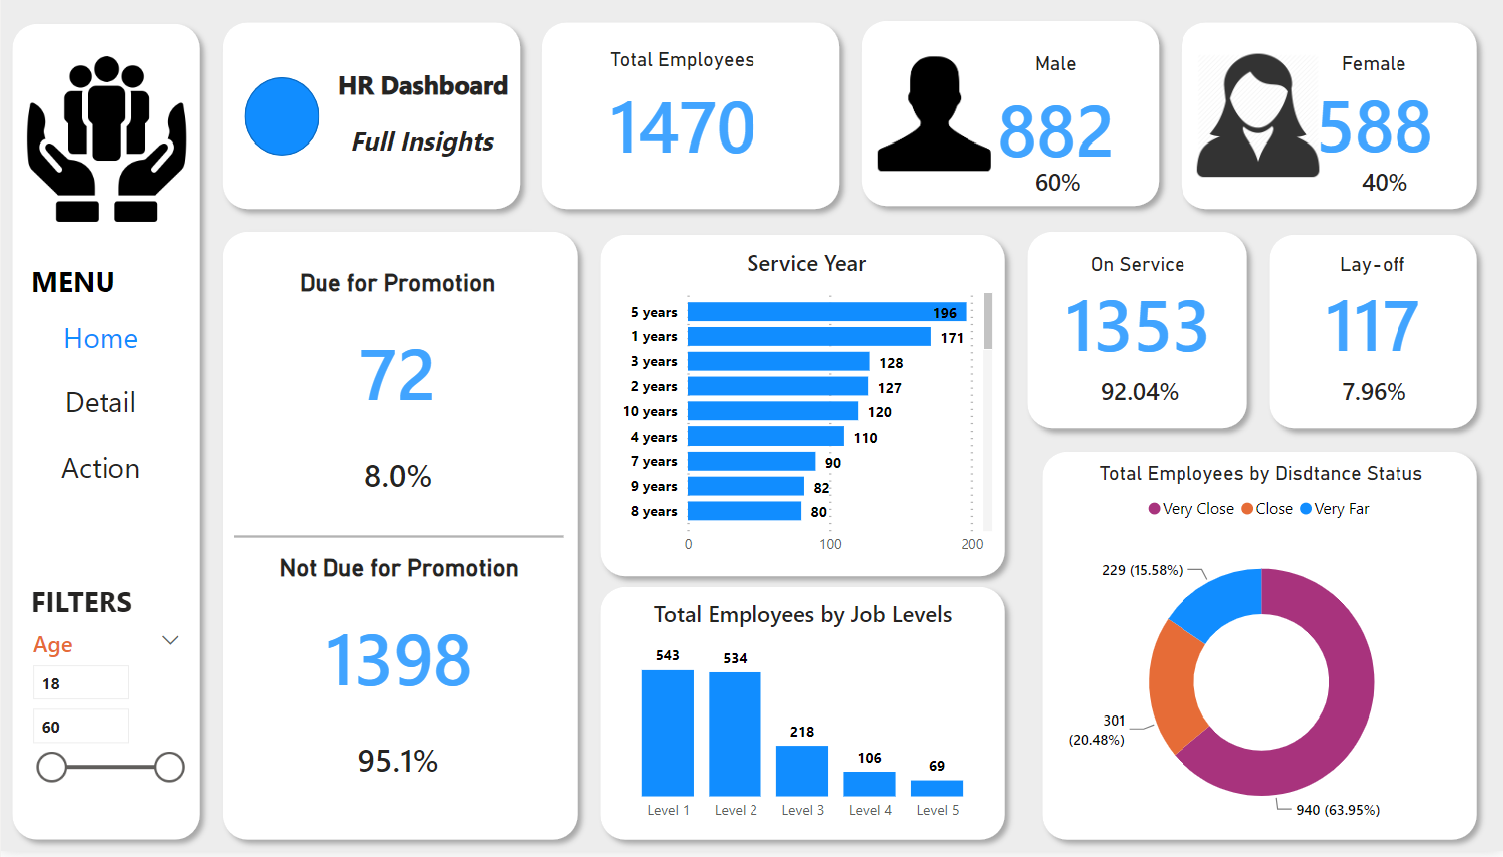

What the dashboard file says about the page in this screenshot:
{"tool":"powerbi","page":{"name":"Home","canvas":[1280,720],"ordinal":0},"visuals":[{"type":"shape","box":[0,11.9,179,708.6],"z":0},{"type":"shape","box":[451.7,10.2,272.3,176.9],"z":1000},{"type":"shape","box":[179.4,10.2,272.3,176.9],"z":2000},{"type":"shape","box":[724,8.9,272.3,175.6],"z":3000},{"type":"shape","box":[996.3,10.2,271,176.9],"z":4000},{"type":"shape","box":[179.4,187,321.9,533.1],"z":5000},{"type":"shape","box":[501.3,189.6,363.9,307.9],"z":6000},{"type":"shape","box":[501.3,487.3,363.9,232.8],"z":7000},{"type":"shape","box":[865.2,187,206.1,185.8],"z":8000},{"type":"shape","box":[877.9,372.8,389.3,347.4],"z":9000},{"type":"shape","box":[1071.3,189.6,195.9,183.2],"z":10000},{"type":"textbox","box":[282.5,52.2,169.2,57.3],"z":11000},{"type":"textbox","box":[292.6,99.2,150.1,42],"z":12000},{"type":"card","title":"Total Employees","fields":{"Values":["New Measures.Total Emp"]},"box":[501.3,40.7,159,105.6],"z":13000},{"type":"card","title":"Male","fields":{"Values":["New Measures.Male"]},"box":[819.4,44.5,159,105.6],"z":14000},{"type":"card","title":"Female","fields":{"Values":["New Measures.Female"]},"box":[1101.9,44.5,136.1,96.7],"z":15000},{"type":"image","box":[741.8,14,106.9,165.4],"z":16000},{"type":"image","box":[1014.1,7.6,114.5,181.9],"z":17000},{"type":"card","fields":{"Values":["New Measures.% male"]},"box":[849.9,127.2,100.5,57.3],"z":18000},{"type":"card","fields":{"Values":["New Measures.% female"]},"box":[1128.6,118.3,100.5,75.1],"z":19000},{"type":"card","title":"Due for Promotion","fields":{"Values":["New Measures.Due for Promotion"]},"box":[206.1,227.8,263.4,147.6],"z":20000},{"type":"card","fields":{"Values":["New Measures.% due for promotion"]},"box":[282.5,361.4,112,82.7],"z":21000},{"type":"card","title":"Not Due for Promotion","fields":{"Values":["New Measures.Not Due"]},"box":[207.4,468.2,263.4,147.6],"z":22000},{"type":"card","fields":{"Values":["New Measures.% not due"]},"box":[282.5,601.8,112,82.7],"z":23000},{"type":"shape","box":[198.5,333.4,281.2,241.7],"z":24000},{"type":"barChart","title":"Service Year","fields":{"Category":["HR Analytics Data.Service Year"],"Y":["New Measures.Total Employees"]},"box":[522.9,209.9,327,268.5],"z":25000},{"type":"clusteredColumnChart","fields":{"Category":["HR Analytics Data.Job Levels"],"Y":["New Measures.Total Employees"]},"box":[517.9,506.4,330.8,197.2],"z":27000},{"type":"card","title":"On Service","fields":{"Values":["New Measures.On Service"]},"box":[900.8,213.8,136.1,96.7],"z":28000},{"type":"card","fields":{"Values":["New Measures.% On Service"]},"box":[919.9,295.2,100.5,75.1],"z":29000},{"type":"card","title":"Lay-off","fields":{"Values":["New Measures.Retrenchment"]},"box":[1100.6,213.8,136.1,96.7],"z":30000},{"type":"card","fields":{"Values":["New Measures.%   Retrenchment"]},"box":[1119.7,295.2,100.5,75.1],"z":31000},{"type":"donutChart","title":"Total Employees by Disdtance Status","fields":{"Y":["New Measures.Total Employees"],"Category":["HR Analytics Data.Distance Status"]},"box":[888.9,391.1,368.9,324.4],"z":32000},{"type":"pageNavigator","title":"Menu","box":[20.4,262.1,129.8,157.8],"z":33000},{"type":"slicer","fields":{"Values":["HR Analytics Data.Age"]},"box":[14,526.8,150.1,151.4],"z":34000},{"type":"textbox","box":[20.4,216.3,137.4,45.8],"z":35000},{"type":"textbox","box":[20.4,487.3,129.8,50.9],"z":36000},{"type":"shape","box":[207.4,66.2,63.6,66.2],"z":37000},{"type":"image","box":[0,33.1,179.4,170.5],"z":38000}]}

Visuals, with their boxes in screenshot pixels (x1, y1, x2, y2), scaled from the page's 1280x720 canvas onto the 1503x857 screenshot:
shape: l=0, t=14, r=210, b=856
shape: l=530, t=12, r=850, b=223
shape: l=211, t=12, r=530, b=223
shape: l=850, t=11, r=1170, b=220
shape: l=1170, t=12, r=1488, b=223
shape: l=211, t=223, r=589, b=856
shape: l=589, t=226, r=1016, b=592
shape: l=589, t=580, r=1016, b=856
shape: l=1016, t=223, r=1258, b=444
shape: l=1031, t=444, r=1488, b=856
shape: l=1258, t=226, r=1488, b=444
textbox: l=332, t=62, r=530, b=130
textbox: l=344, t=118, r=520, b=168
"Total Employees" card: l=589, t=48, r=775, b=174
"Male" card: l=962, t=53, r=1149, b=179
"Female" card: l=1294, t=53, r=1454, b=168
image: l=871, t=17, r=997, b=214
image: l=1191, t=9, r=1325, b=226
card - New Measures.% male: l=998, t=151, r=1116, b=220
card - New Measures.% female: l=1325, t=141, r=1443, b=230
"Due for Promotion" card: l=242, t=271, r=551, b=447
card - New Measures.% due for promotion: l=332, t=430, r=463, b=529
"Not Due for Promotion" card: l=244, t=557, r=553, b=733
card - New Measures.% not due: l=332, t=716, r=463, b=815
shape: l=233, t=397, r=563, b=685
"Service Year" barChart: l=614, t=250, r=998, b=569
clusteredColumnChart - HR Analytics Data.Job Levels x New Measures.Total Employees: l=608, t=603, r=997, b=837
"On Service" card: l=1058, t=254, r=1218, b=370
card - New Measures.% On Service: l=1080, t=351, r=1198, b=441
"Lay-off" card: l=1292, t=254, r=1452, b=370
card - New Measures.%   Retrenchment: l=1315, t=351, r=1433, b=441
"Total Employees by Disdtance Status" donutChart: l=1044, t=466, r=1477, b=852
"Menu" pageNavigator: l=24, t=312, r=176, b=500
slicer - HR Analytics Data.Age: l=16, t=627, r=193, b=807
textbox: l=24, t=257, r=185, b=312
textbox: l=24, t=580, r=176, b=641
shape: l=244, t=79, r=318, b=158
image: l=0, t=39, r=211, b=242
